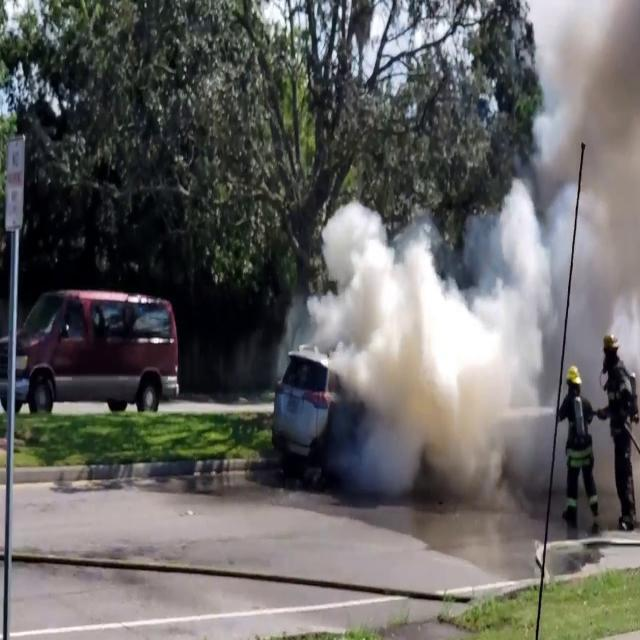Smoke: (288, 12, 640, 533), (289, 187, 515, 516)
